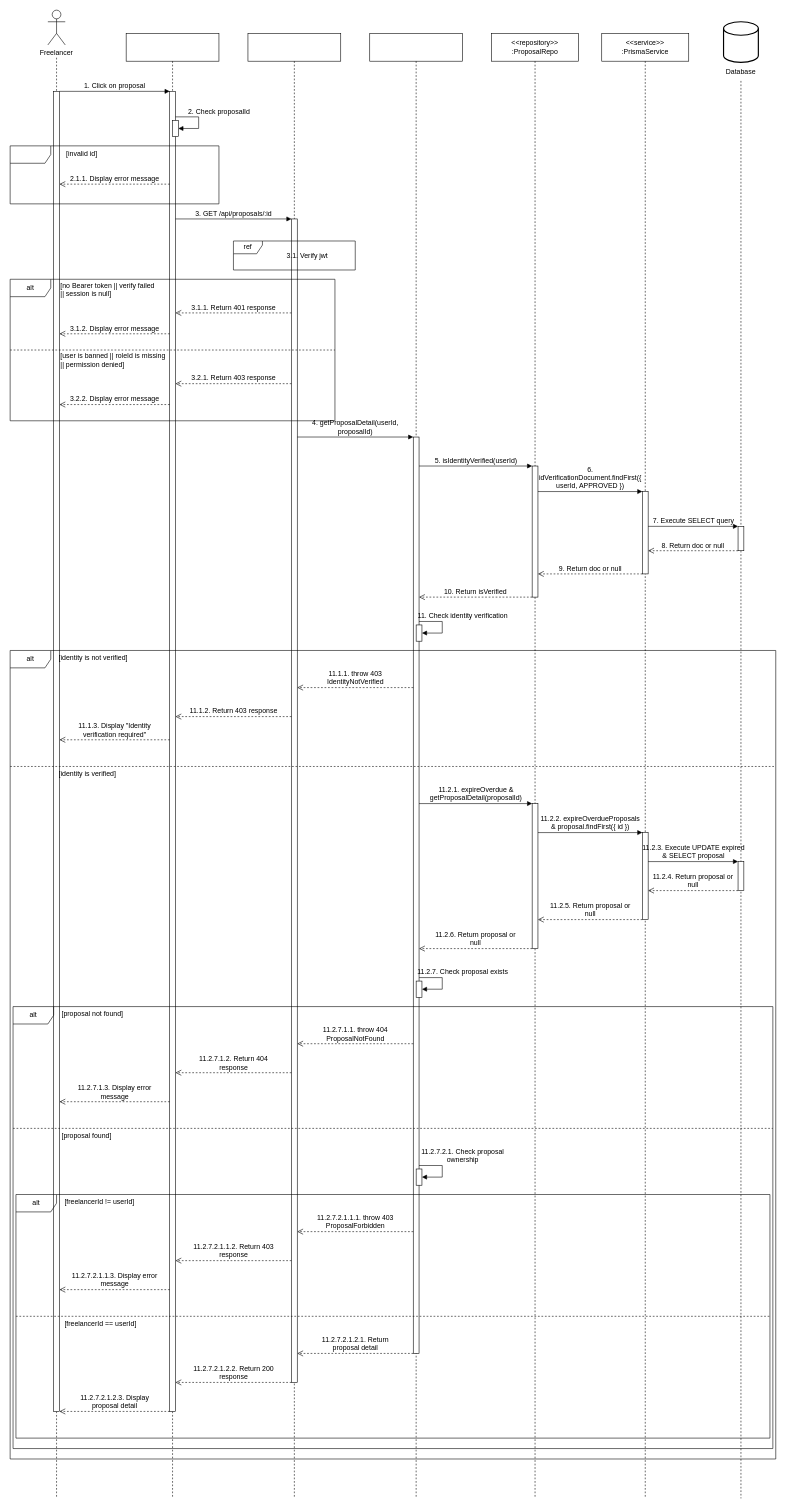
This 786x1509 diagram has some shape labels left out. Each missing label, with the box of its shape:
<<boundary>> ProposalDetailPage: (126, 33, 219, 1498)
<<controller>> :ProposalController: (247, 33, 341, 1498)
<<service>> :ProposalService: (369, 33, 463, 1498)
opt: (10, 145, 219, 204)
